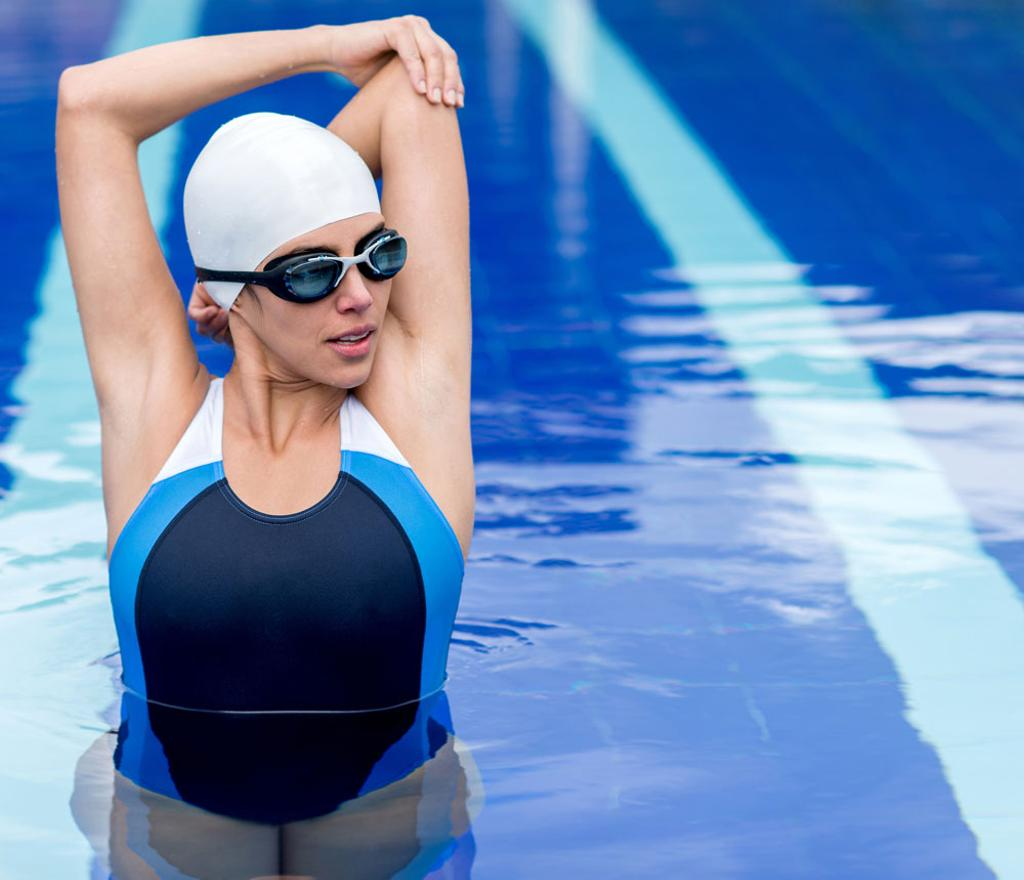face: (262, 190, 394, 392)
